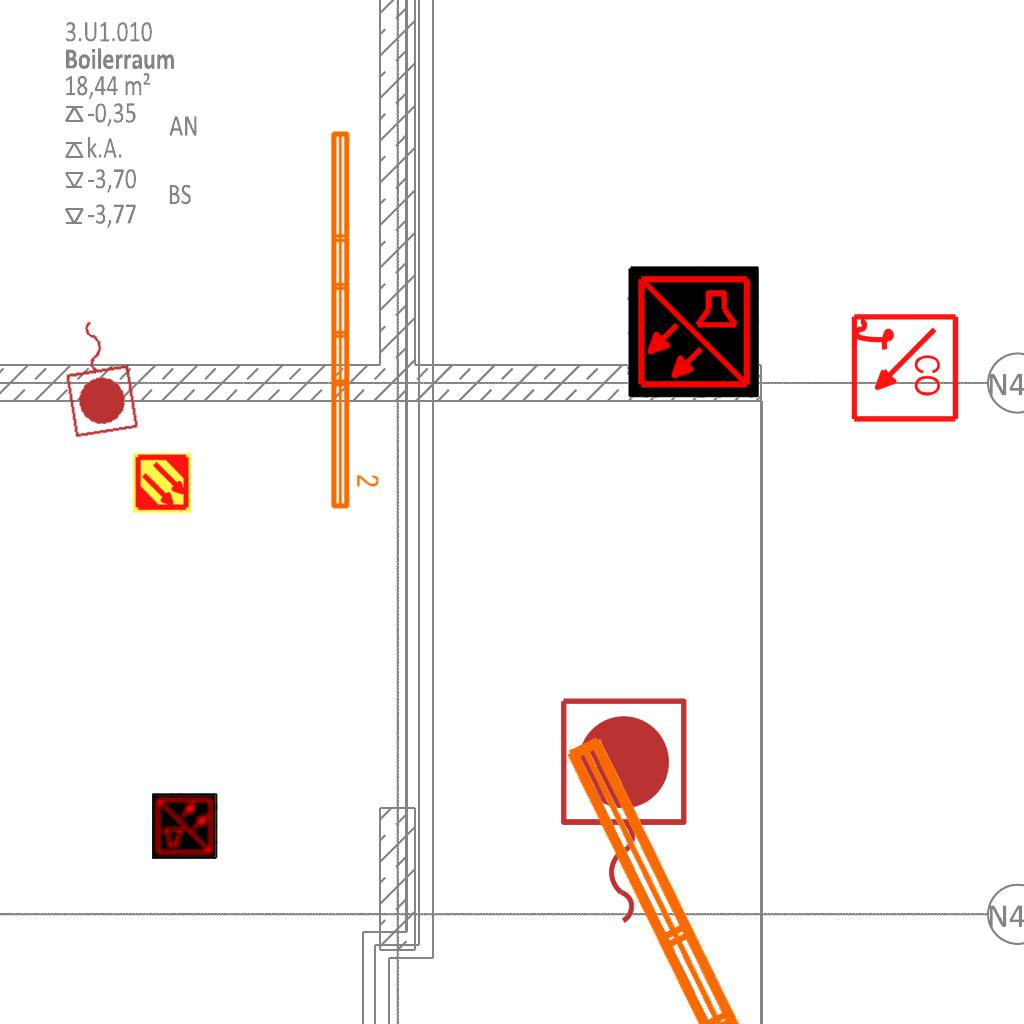ASR_Ansaugrauchmelder: (131, 452, 193, 514)
Ambulanz_Pendelleuchte_LED: (550, 698, 990, 1024), (325, 126, 381, 513)
OKW_Multisensormelder_(Kombination_optischer_Rauch-Kahlenmonoxid_Waerme-Melder): (627, 266, 759, 398), (152, 793, 218, 859)
ROA_Rauchmelder_optisch_mit_Signalgeber_(Sockelsirene): (847, 312, 960, 425)
Zugtaster: (550, 690, 694, 934), (53, 310, 145, 442)
